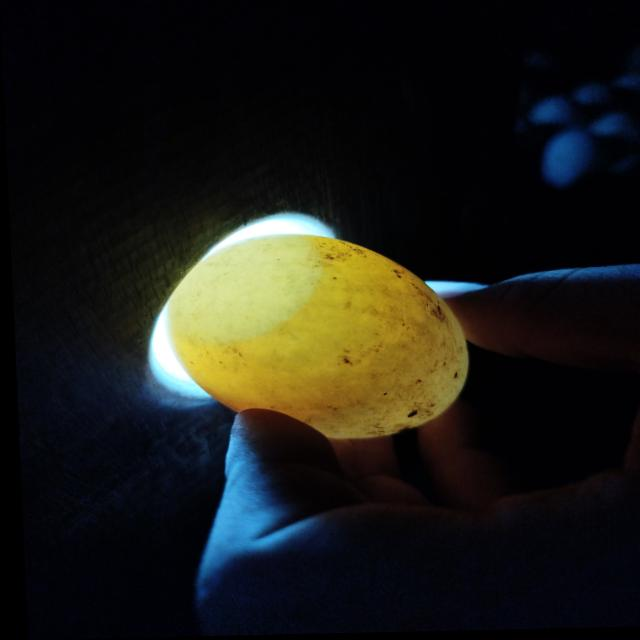Camara de Ar: (164, 235, 317, 341)
